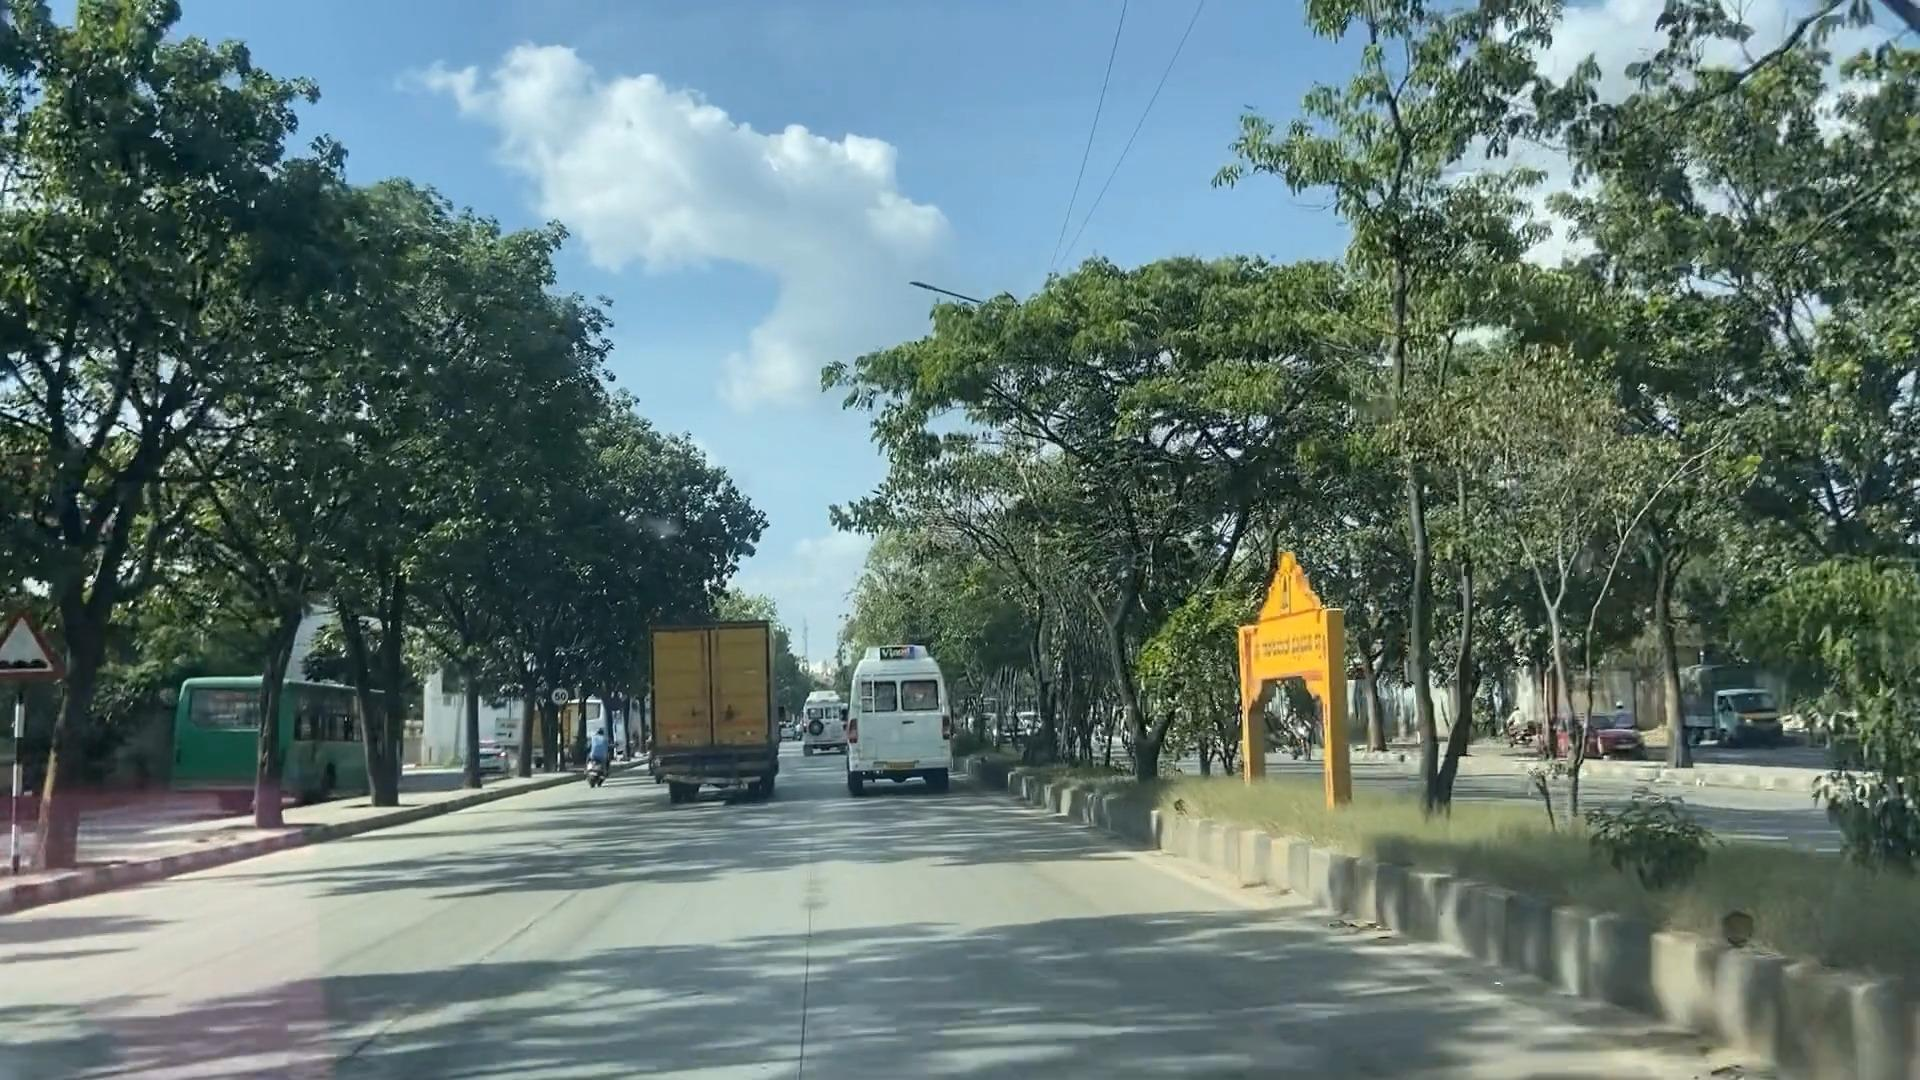HMV: (624, 620, 789, 810), (847, 637, 964, 783)
